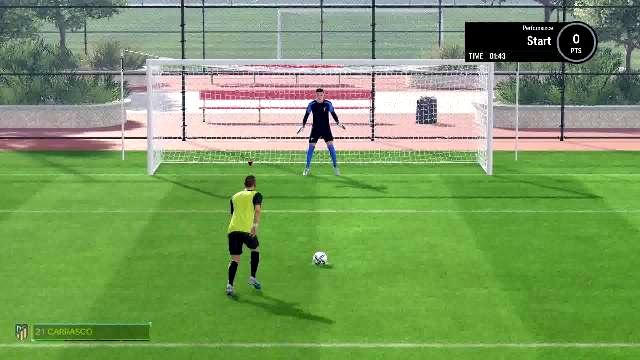bottom-left: (156, 124, 260, 173)
bottom-right: (374, 122, 484, 172)
center-down: (261, 125, 371, 175)
center-up: (260, 69, 372, 123)
circle: (313, 262, 329, 264)
football: (313, 250, 329, 264)
goalkeeper: (287, 87, 347, 177)
player: (218, 172, 274, 298)
top-left: (157, 69, 259, 123)
top-right: (374, 68, 484, 120)
